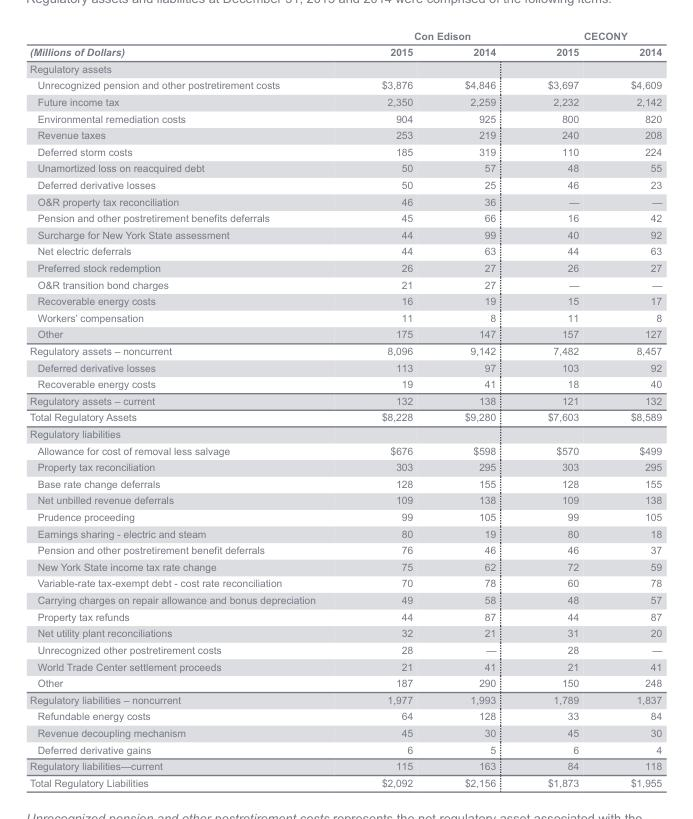table: (29, 29, 661, 787)
table column: (29, 29, 347, 787), (347, 29, 438, 787), (438, 29, 521, 787), (521, 29, 604, 787), (604, 29, 661, 787)
table column header: (29, 29, 661, 59)
table projected row header: (29, 59, 661, 76), (29, 425, 661, 441)
table row: (29, 59, 661, 76), (29, 76, 661, 93), (29, 109, 661, 126), (29, 142, 661, 159), (29, 159, 661, 176), (29, 192, 661, 209), (29, 225, 661, 242), (29, 242, 661, 259), (29, 275, 661, 292), (29, 292, 661, 309), (29, 325, 661, 342), (29, 358, 661, 375), (29, 375, 661, 392), (29, 408, 661, 425), (29, 441, 661, 458), (29, 458, 661, 475), (29, 491, 661, 508), (29, 524, 661, 541), (29, 541, 661, 558), (29, 574, 661, 591), (29, 607, 661, 624), (29, 624, 661, 641), (29, 657, 661, 674), (29, 690, 661, 707), (29, 707, 661, 724), (29, 740, 661, 757), (29, 43, 661, 59), (29, 93, 661, 109), (29, 126, 661, 142), (29, 176, 661, 192), (29, 209, 661, 225), (29, 259, 661, 275), (29, 309, 661, 325), (29, 342, 661, 358), (29, 392, 661, 408), (29, 425, 661, 441), (29, 475, 661, 491), (29, 508, 661, 524), (29, 558, 661, 574), (29, 591, 661, 607), (29, 641, 661, 657), (29, 674, 661, 690), (29, 724, 661, 740), (29, 757, 661, 773), (29, 29, 661, 43), (29, 773, 661, 787)
table spanning cell: (29, 29, 347, 59), (347, 29, 521, 43), (521, 29, 661, 43)
